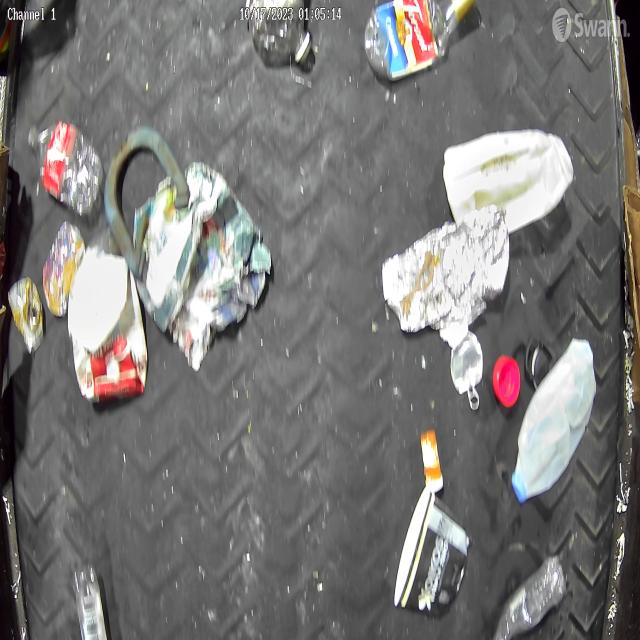can: (10, 275, 46, 355), (450, 328, 484, 392)
milk_jug: (512, 338, 596, 503), (444, 130, 574, 236)
plastic_bottle: (365, 0, 479, 82), (490, 553, 568, 640), (32, 120, 102, 214), (248, 0, 312, 68), (72, 564, 108, 640)
